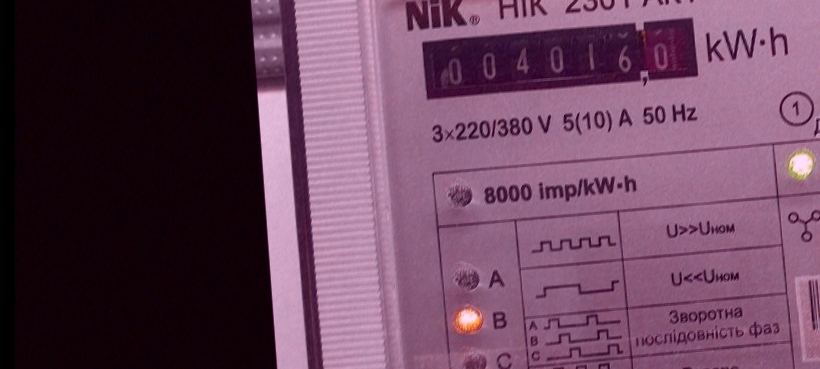0: (546, 41, 569, 77), (445, 53, 468, 88), (479, 48, 501, 83), (650, 38, 672, 72)
1: (584, 38, 601, 73)
4: (513, 42, 533, 78)
6: (614, 40, 635, 73)
screen: (415, 10, 709, 107)
